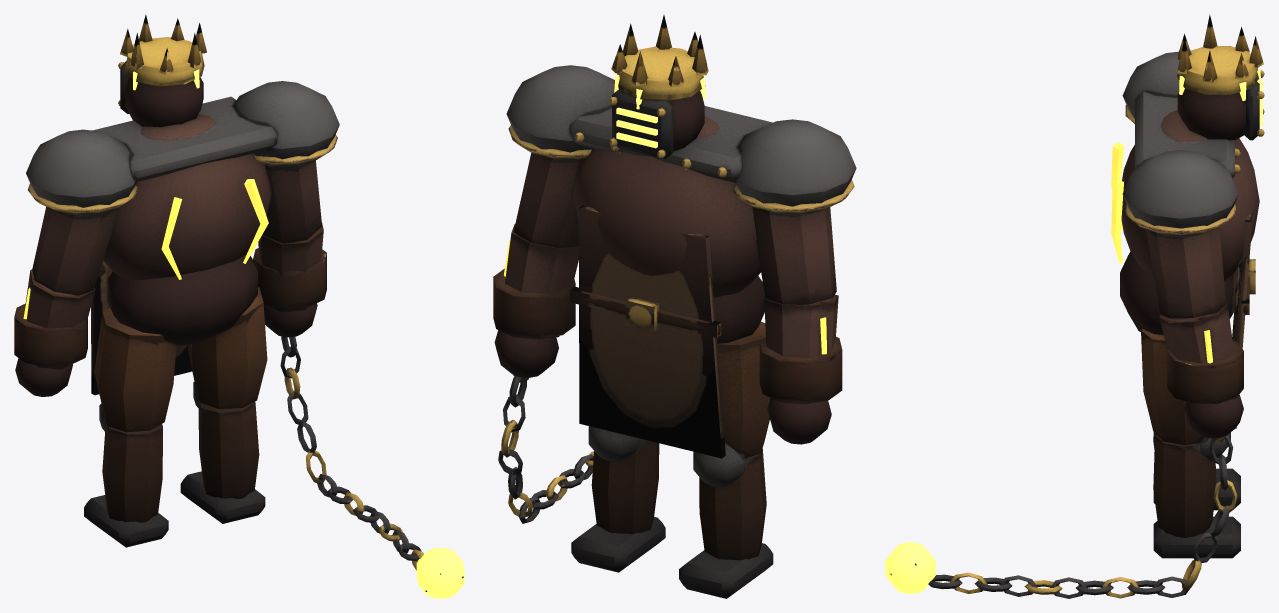
File: alpha_molten_taskmaster.fbx
The picture shows the model from 3 angles, left to right: view 1: azimuth 30°, elevation 25°; view 2: azimuth 150°, elevation 25°; view 3: azimuth 270°, elevation 25°; orthographic projection. The views are drawn at different scales.
Visible parts, largest first — view 1: Body, ArmL, ArmR, ForearmR, LegL, KneeL, KneeR, ForearmL, LegR, Trophy_SlagCrown, Head, ForearmR_Glow_Molten (+1 smaller); view 2: Body, ArmL, ForearmR, ArmR, ForearmL, KneeL, KneeR, LegL, Trophy_SlagCrown, Head, Head_Glow_Molten; view 3: ArmR, ForearmR, Body, KneeR, Trophy_SlagCrown, Head, LegR, ArmL, ForearmR_Glow_Molten, Body_Glow_Ember, KneeL.
Boxes of the visible parts, left/top/right/bottom form: Body: left=91, top=96, right=277, bottom=395; ArmL: left=26, top=129, right=137, bottom=295; ArmR: left=233, top=81, right=339, bottom=243; ForearmR: left=253, top=222, right=463, bottom=591; LegL: left=94, top=308, right=176, bottom=432; KneeL: left=84, top=403, right=168, bottom=547; KneeR: left=180, top=381, right=265, bottom=523; ForearmL: left=14, top=269, right=95, bottom=396; LegR: left=188, top=287, right=267, bottom=408; Trophy_SlagCrown: left=120, top=14, right=206, bottom=86; Head: left=118, top=61, right=203, bottom=127; ForearmR_Glow_Molten: left=416, top=548, right=464, bottom=598; Body: left=569, top=106, right=772, bottom=458; ArmL: left=733, top=119, right=856, bottom=304; ForearmR: left=493, top=224, right=593, bottom=523; ArmR: left=506, top=65, right=614, bottom=248; ForearmL: left=759, top=294, right=842, bottom=444; KneeL: left=679, top=443, right=773, bottom=598; KneeR: left=571, top=426, right=665, bottom=572; LegL: left=717, top=321, right=770, bottom=458; Trophy_SlagCrown: left=611, top=15, right=708, bottom=101; Head: left=609, top=89, right=704, bottom=159; Head_Glow_Molten: left=616, top=107, right=657, bottom=148; ArmR: left=1122, top=150, right=1238, bottom=318; ForearmR: left=890, top=303, right=1243, bottom=598; Body: left=1120, top=91, right=1259, bottom=428; KneeR: left=1153, top=432, right=1240, bottom=558; Trophy_SlagCrown: left=1176, top=14, right=1263, bottom=94; Head: left=1177, top=70, right=1264, bottom=140; LegR: left=1141, top=329, right=1204, bottom=445; ArmL: left=1122, top=51, right=1179, bottom=123; ForearmR_Glow_Molten: left=885, top=542, right=935, bottom=594; Body_Glow_Ember: left=1111, top=142, right=1123, bottom=263; KneeL: left=1153, top=432, right=1240, bottom=510.
Size of the model in its own units: 553 by 865 by 593.
Materials: 3 (1 with a texture image).
